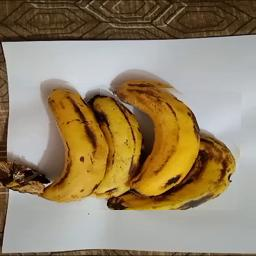Banana Semifresh: (14, 81, 243, 211)
